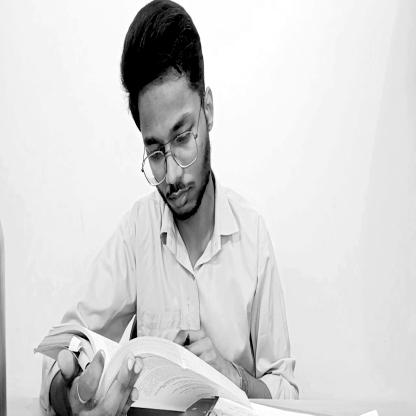Distracted: (121, 1, 214, 232)
